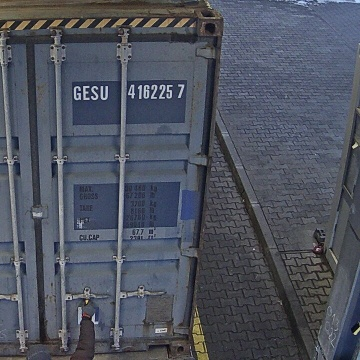serial_id: (74, 84, 185, 100)
